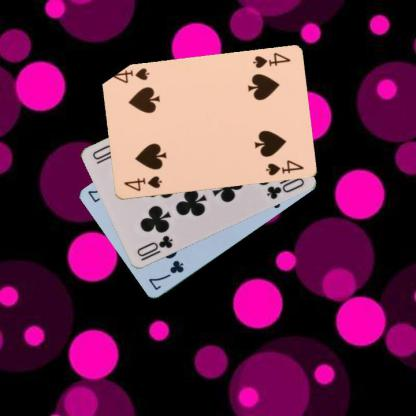10c: (134, 233, 174, 258)
4s: (249, 50, 292, 70), (121, 173, 163, 193)
7c: (146, 258, 186, 292)
